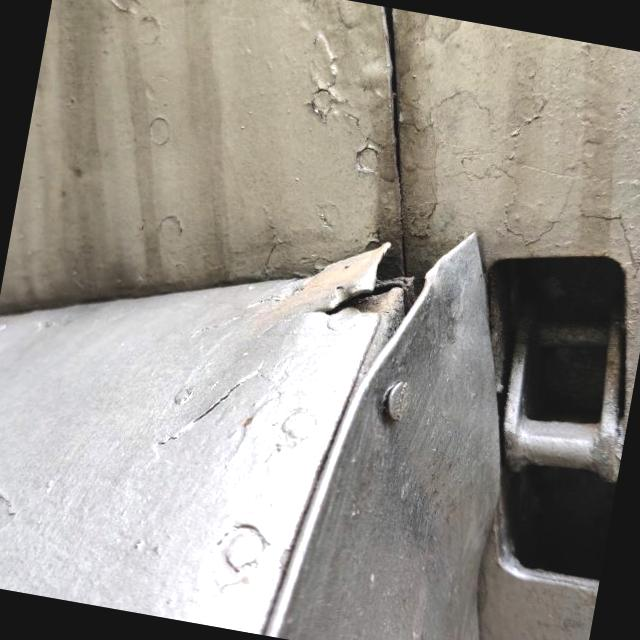crack: (294, 223, 416, 354)
